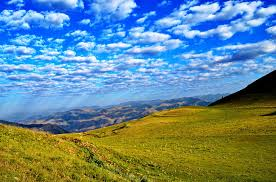field: (4, 102, 276, 182)
sky: (2, 1, 263, 91)
